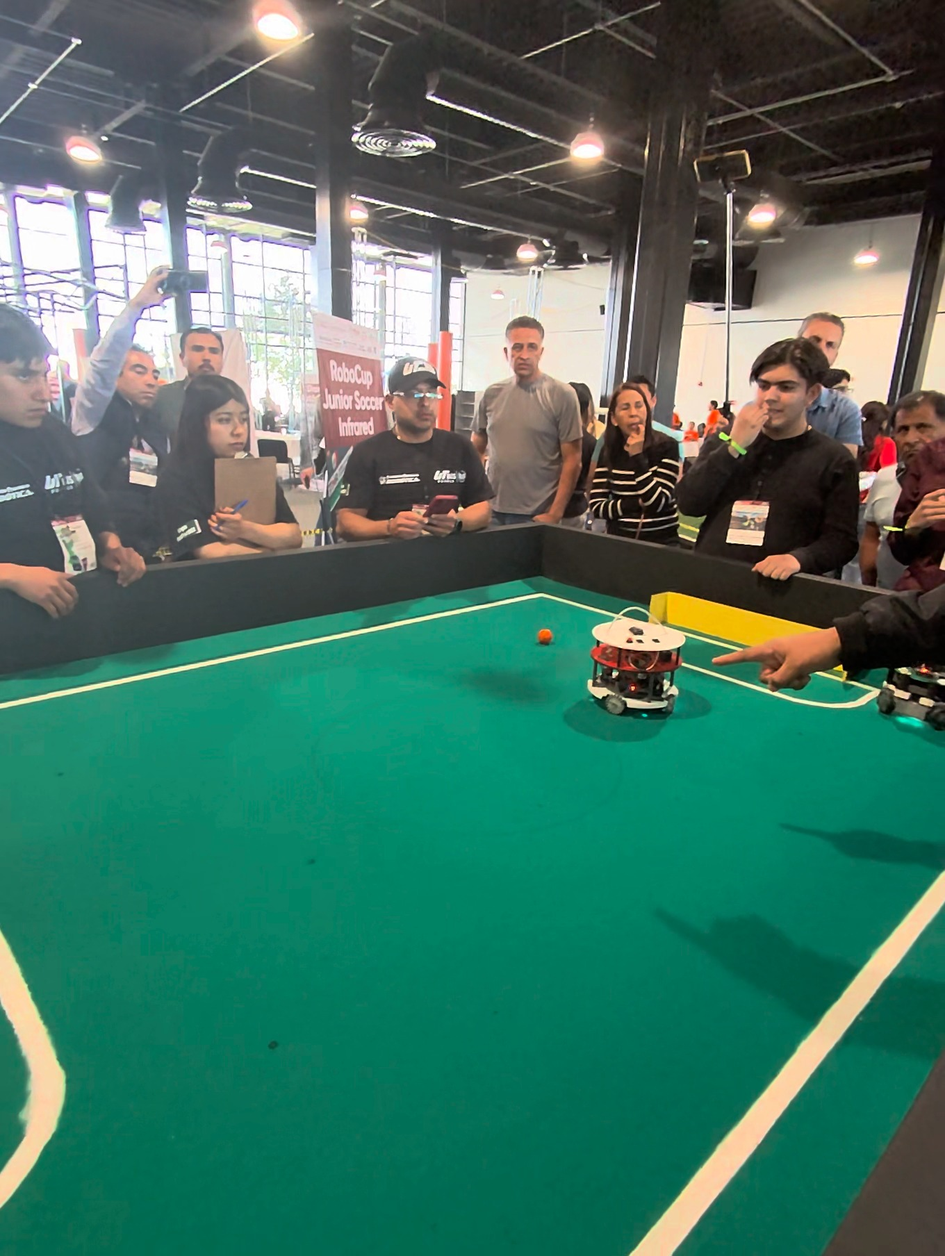Robot: (587, 601, 687, 732), (879, 658, 945, 738)
pelota: (535, 625, 552, 644)
